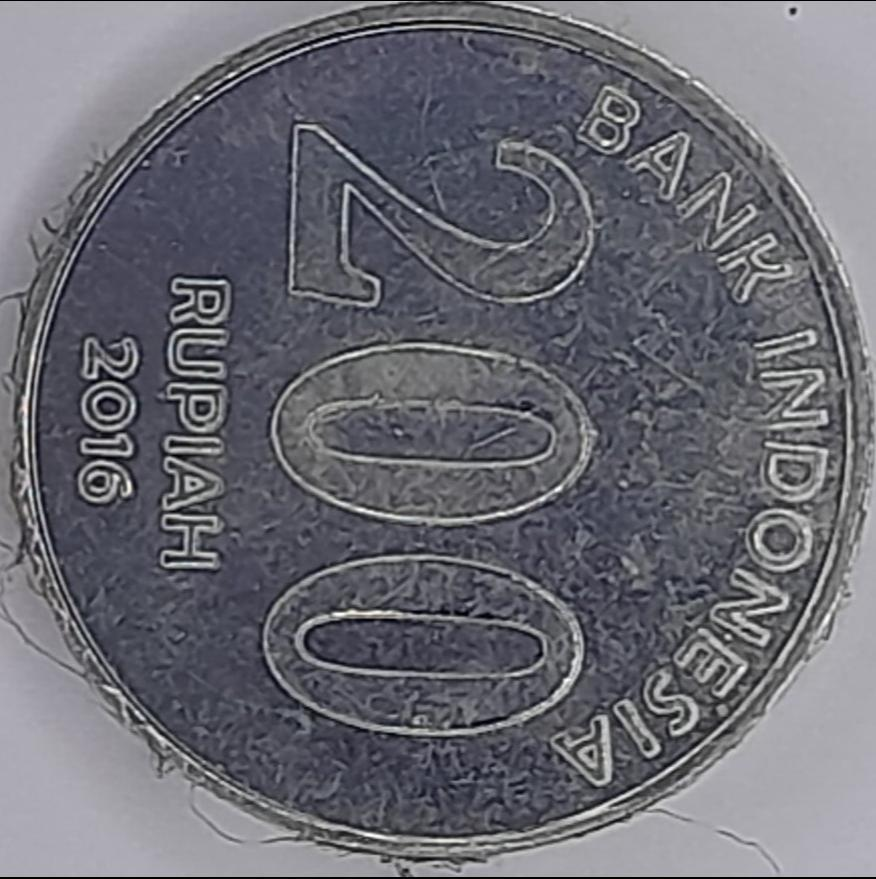coin_200_e2016: (0, 15, 876, 879)
